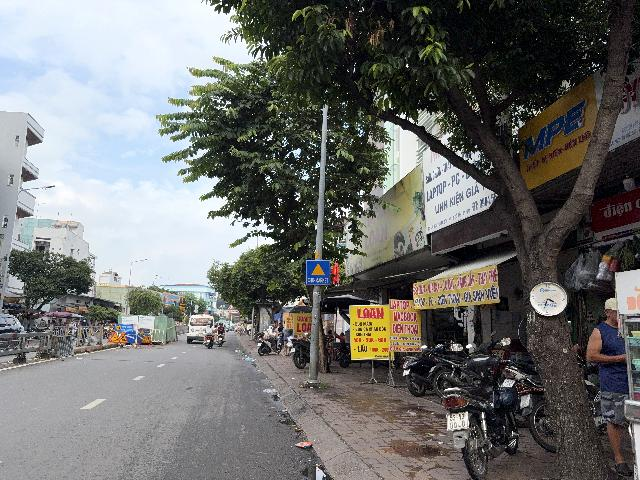khu-vuc-cho-phia-truoc: (306, 260, 331, 285)
